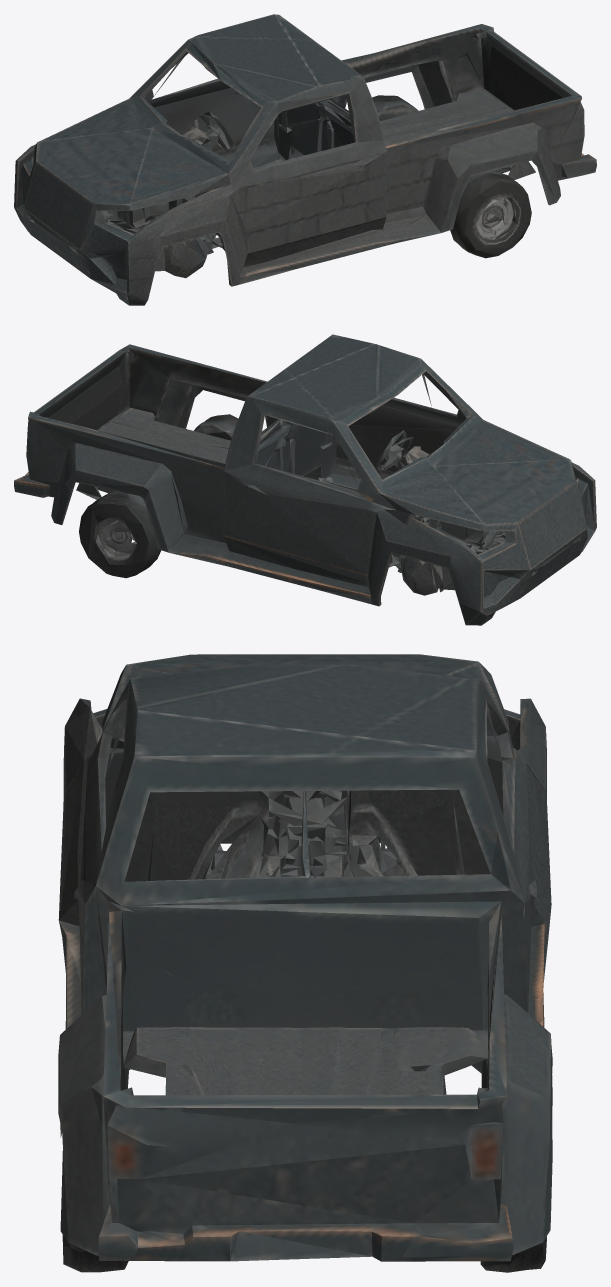
3 renders of one model, top to bottom at view 1: azimuth 30°, elevation 25°; view 2: azimuth 150°, elevation 25°; view 3: azimuth 270°, elevation 25°, orthographic. The views are drawn at different scales.
Size of the model in its own units: 1.9 by 0.7334 by 0.8244.
1 material, 1 textured.
